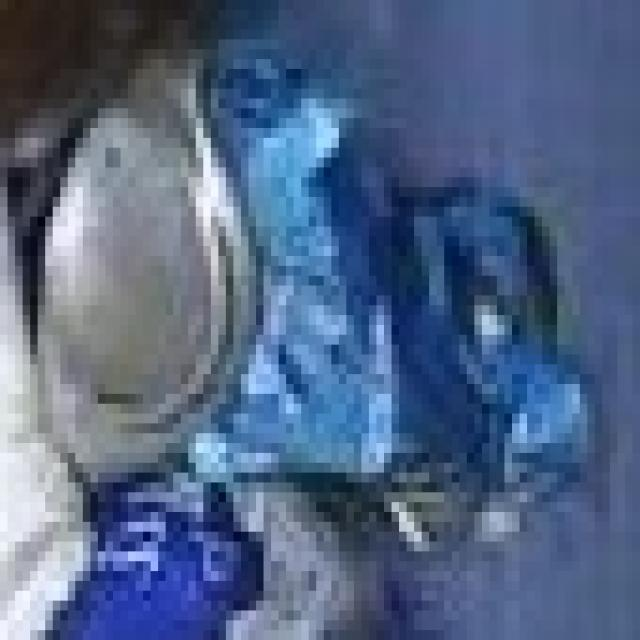can: (16, 67, 610, 543)
